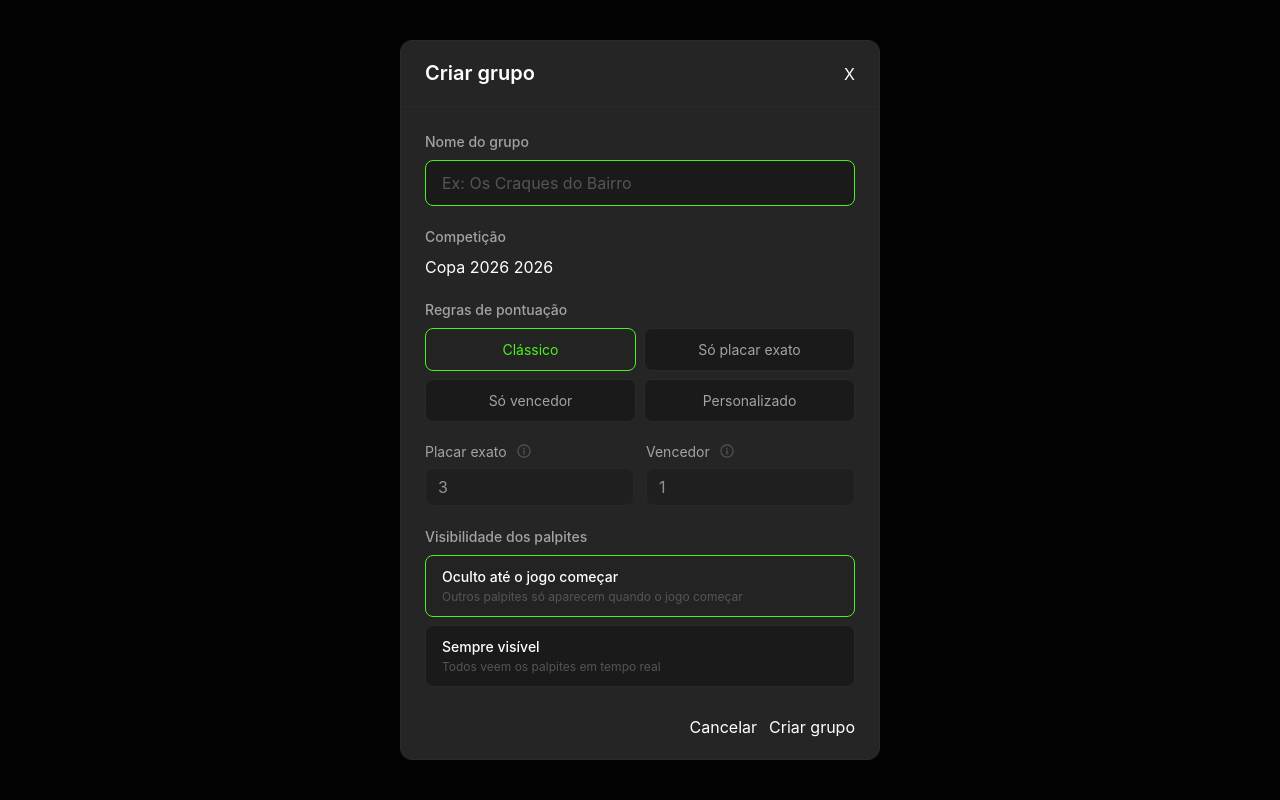
CreateGroupModal – scoring config › keeps points inputs disabled unless "Personalizado" is selected
Expected: the field labelled "Nome do grupo" is shown, [425,160,855,206]
Expected: the number field labelled "Placar exato" is disabled, [425,468,634,506]
Click the button "Personalizado": (750, 400) [644,379,855,422]
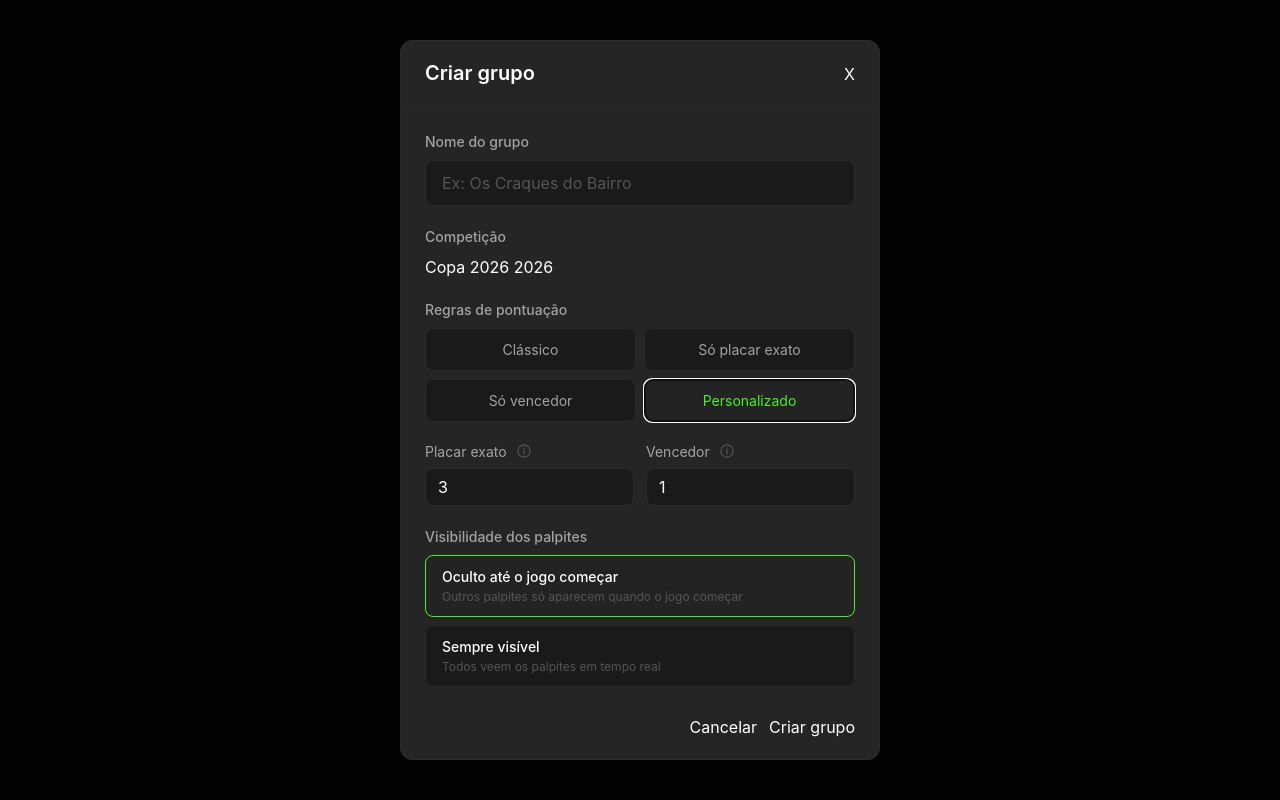
Expected: the number field labelled "Placar exato" is enabled, [425,468,634,506]
